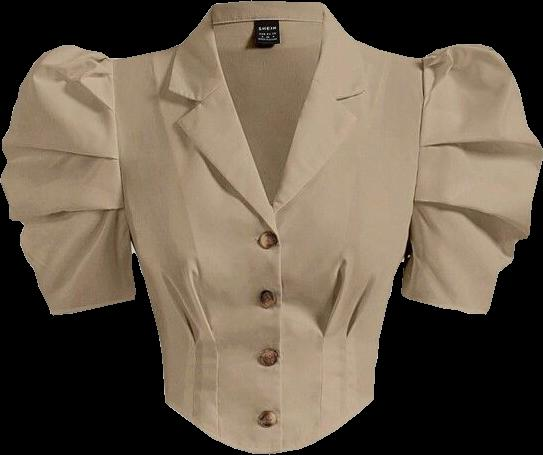Bodice: (111, 1, 423, 453)
Neckline: (209, 2, 327, 209)
Sleeve: (401, 44, 542, 314), (1, 45, 135, 314)
Sleeveline: (108, 56, 132, 239), (406, 57, 428, 247)
Waistline: (164, 397, 376, 454)
